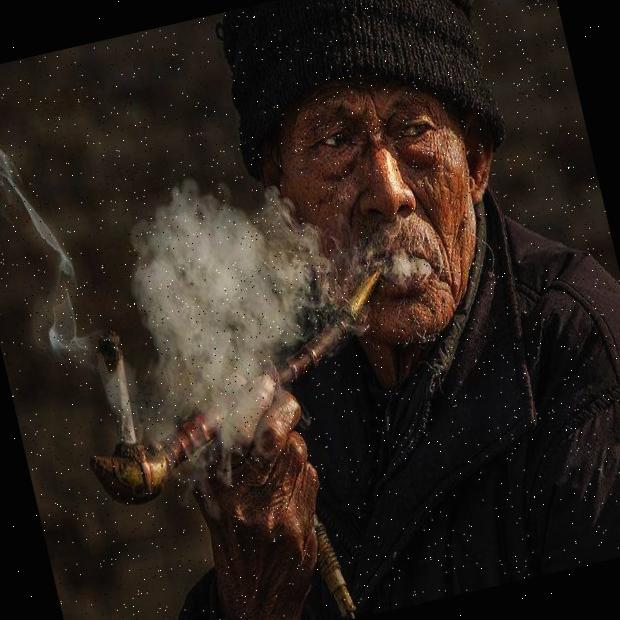smoke: (112, 163, 371, 448), (0, 82, 94, 362)
